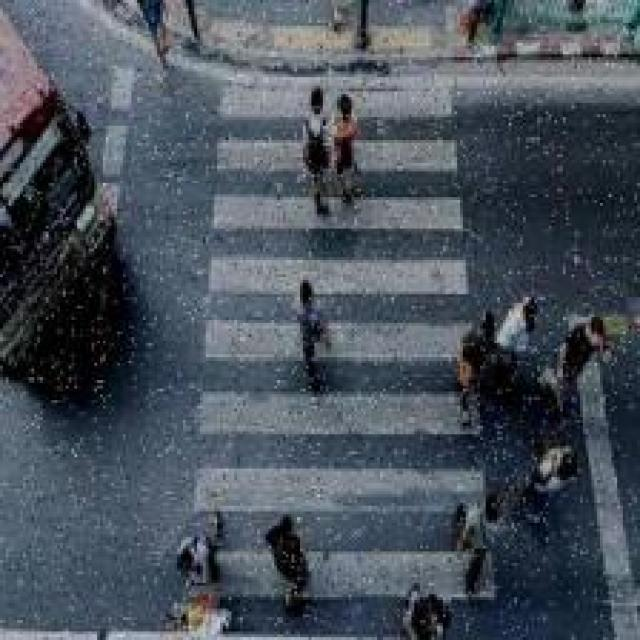crosswalk: (198, 80, 494, 616)
